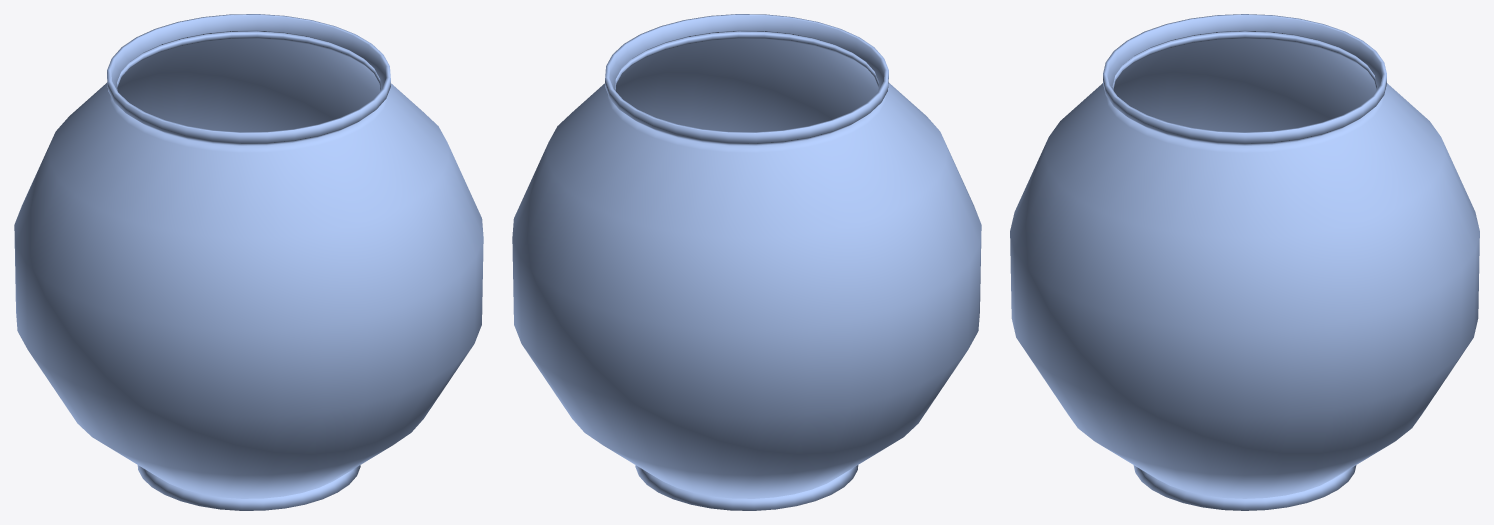
The model's file is fishbowl_Unwrapped.fbx.
The picture shows the model from 3 angles, left to right: view 1: azimuth 30°, elevation 25°; view 2: azimuth 150°, elevation 25°; view 3: azimuth 270°, elevation 25°; orthographic projection.
Visible parts, largest first — view 1: Base, Top, Bottom; view 2: Base, Top, Bottom; view 3: Base, Top, Bottom.
Boxes of the visible parts, box(x1,y1,x2,y2) form: Base: box(14, 32, 483, 498); Top: box(107, 14, 390, 145); Bottom: box(137, 465, 360, 510); Base: box(512, 32, 981, 498); Top: box(605, 14, 888, 145); Bottom: box(635, 465, 858, 510); Base: box(1010, 32, 1479, 498); Top: box(1103, 14, 1386, 145); Bottom: box(1133, 465, 1356, 510).
Size of the model in its own units: 352 by 322 by 352.
